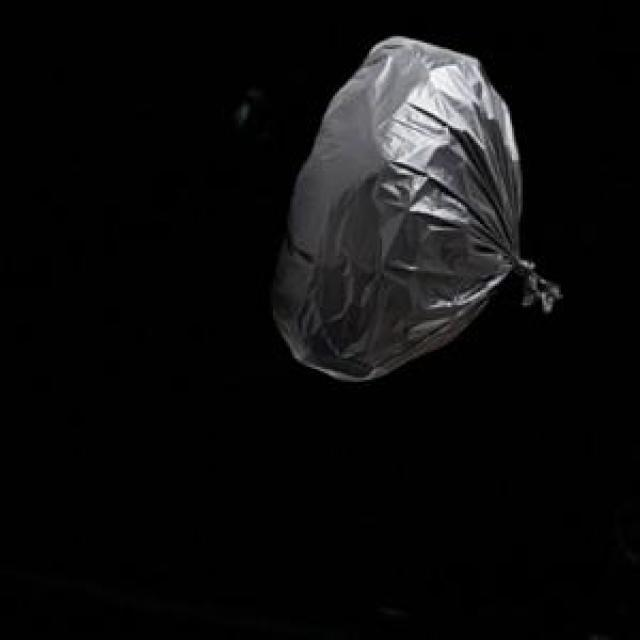Vinyl: (272, 36, 562, 381)
